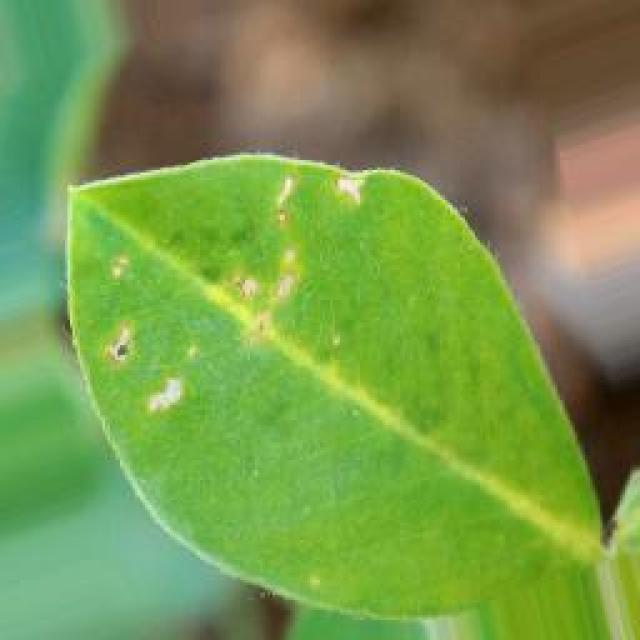Yellow_and_black_sigatoka: (67, 162, 598, 640)
